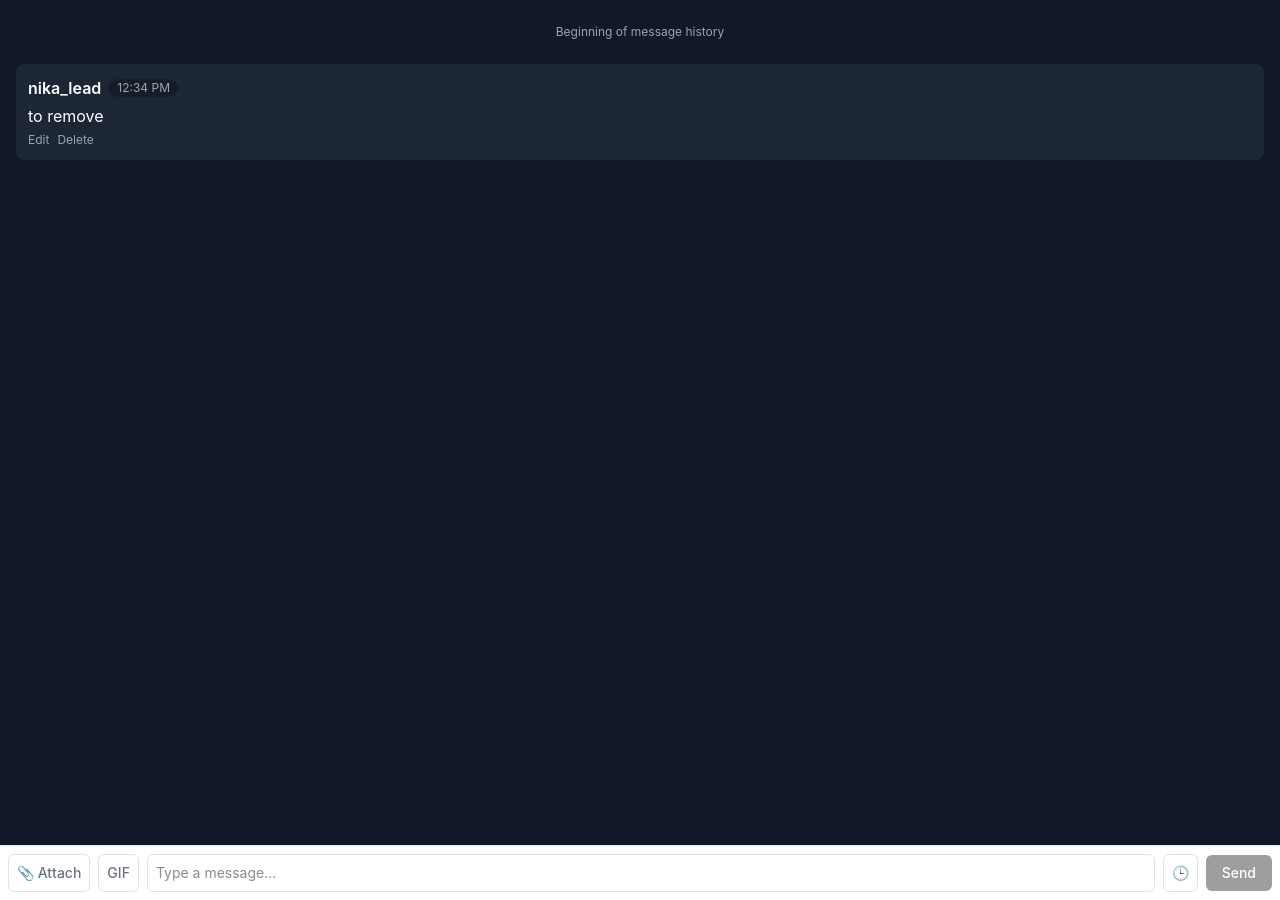
Test: MessageThread › deletes a message via MessageActions and removes it immediately
expect the text "to remove" is shown: met, box [28,106,104,126]
What coordinates should you click on to do the following:
click the button with aria-label "delete message"
I would click on:
 (76, 140)
Its box is [57,132,94,148].
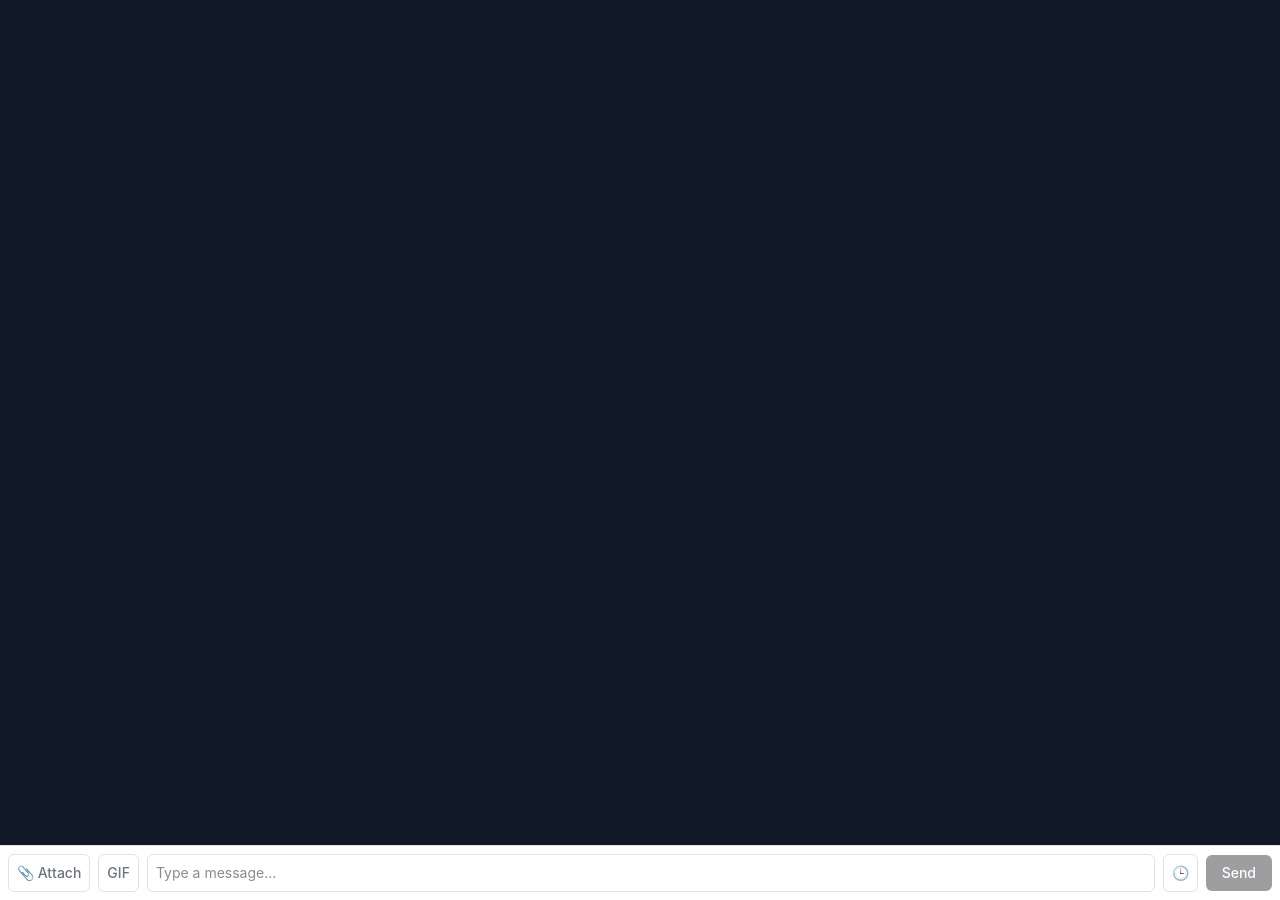
expect the text "to remove" is gone: met
